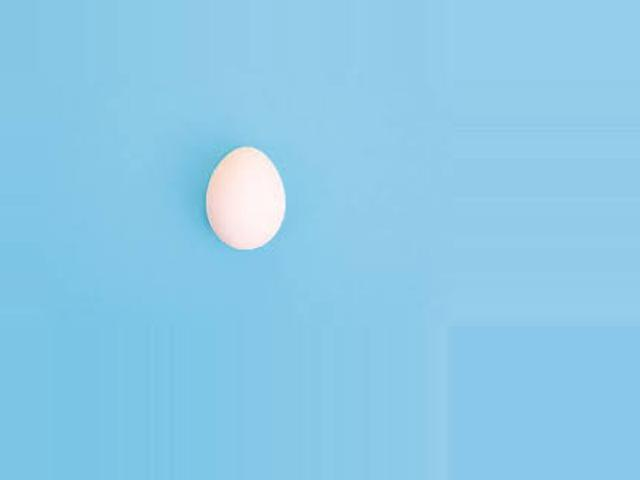egg: (205, 144, 284, 250)
